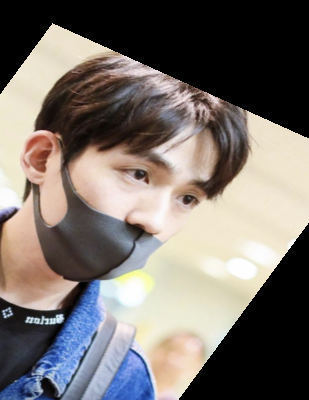mask_weared_incorrect: (9, 40, 272, 298)
